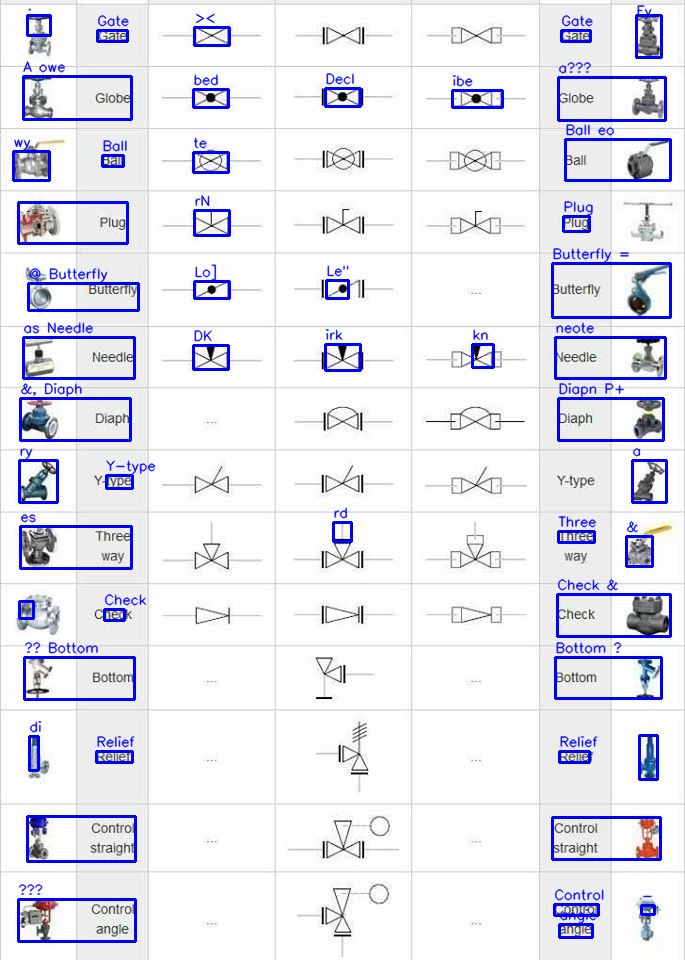Válvula: (291, 874, 391, 957), (286, 811, 402, 861), (157, 522, 267, 571), (289, 523, 392, 573), (425, 521, 524, 572), (313, 717, 375, 795), (423, 461, 528, 499), (423, 206, 528, 241), (307, 653, 379, 704), (291, 206, 396, 240), (156, 341, 265, 373), (293, 464, 395, 498), (289, 341, 395, 373), (157, 20, 265, 51), (160, 463, 261, 496), (288, 20, 396, 50), (158, 207, 262, 238), (160, 146, 263, 176), (292, 404, 394, 434), (286, 602, 398, 629), (158, 275, 261, 304), (157, 82, 263, 109), (423, 406, 524, 434), (426, 343, 529, 370), (292, 275, 394, 302), (292, 83, 397, 108), (291, 146, 395, 171), (420, 149, 524, 174), (425, 86, 527, 110), (423, 604, 529, 627), (424, 24, 532, 46), (160, 606, 263, 627)
